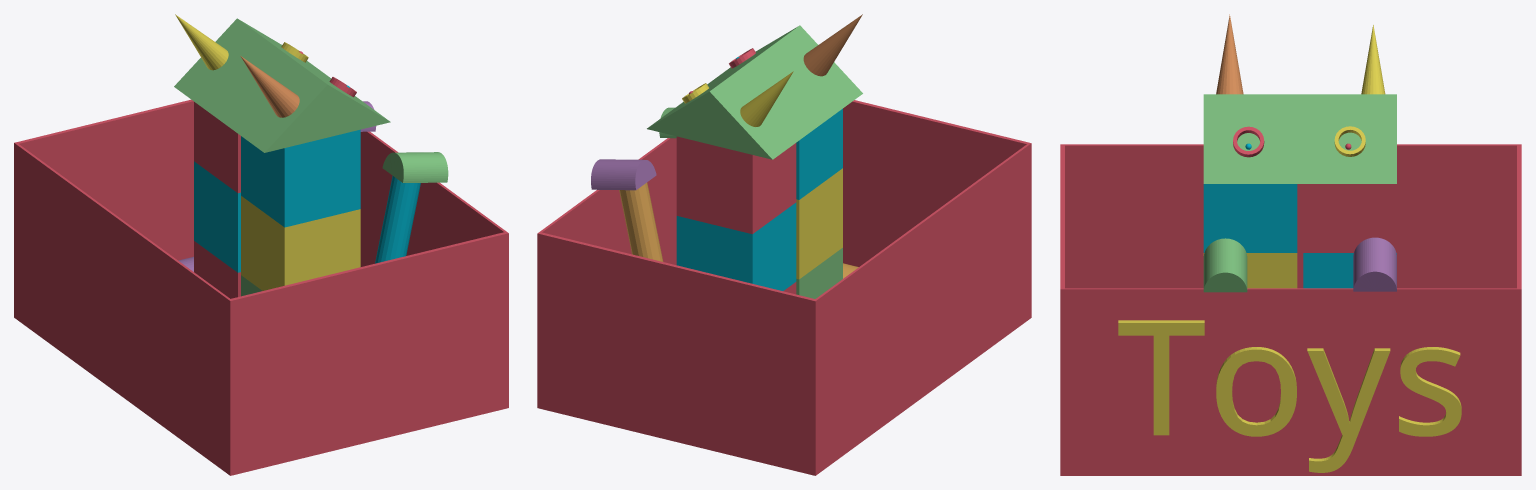
File: ToyMonster.glb
3 renders of one model, left to right at view 1: azimuth 30°, elevation 25°; view 2: azimuth 150°, elevation 25°; view 3: azimuth 270°, elevation 25°, orthographic. The views are drawn at different scales.
Parts seen in each view (by area): view 1: Mesh_Mesh_head_geo.001_lambert2SG.001; view 2: Mesh_Mesh_head_geo.001_lambert2SG.001; view 3: Mesh_Mesh_head_geo.001_lambert2SG.001.
Part boxes in pixels (x1,y1,x2,y2): Mesh_Mesh_head_geo.001_lambert2SG.001: (14,14,508,475); Mesh_Mesh_head_geo.001_lambert2SG.001: (537,14,1031,475); Mesh_Mesh_head_geo.001_lambert2SG.001: (1060,14,1521,475).
Bounding box in the file's own units: 57 × 64.29 × 74.
